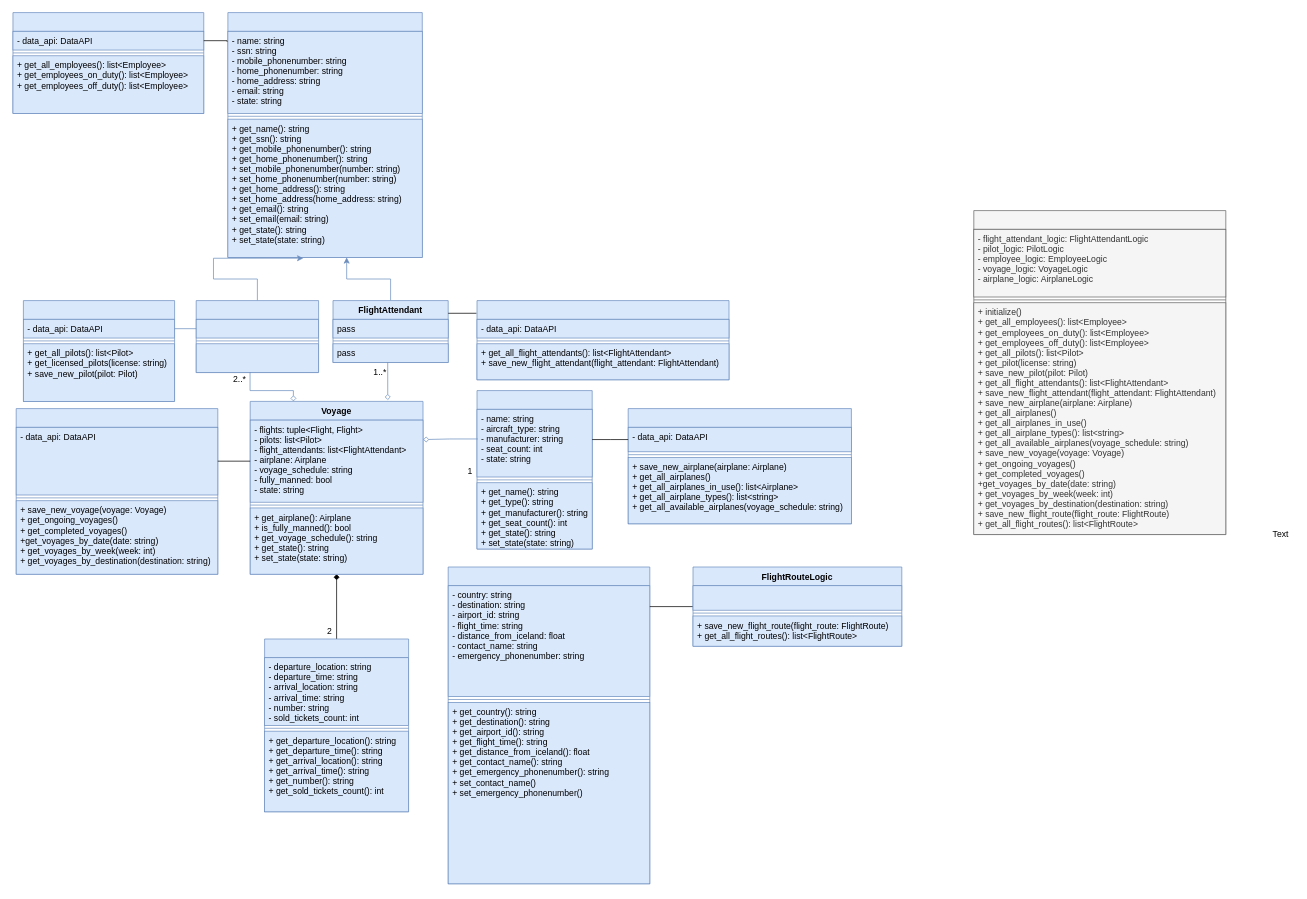
The diagram is 1307 pixels wide and 899 high, and some of its shapes have lost their labels. Each missing label, with the box of its shape:
+ get_license(): string + set_license(license: string): (195, 343, 319, 373)
- license: string: (195, 319, 319, 338)
Airplane: (476, 390, 592, 549)
AirplaneLogic: (627, 408, 851, 524)
data_api: DataAPI: (692, 585, 902, 610)
Employee: (227, 12, 422, 257)
EmployeeLogic: (12, 12, 204, 113)
Flight: (264, 638, 409, 812)
FlightAttendantLogic: (476, 300, 729, 380)
FlightRoute: (447, 566, 650, 884)
LogicAPI: (973, 210, 1226, 535)
Pilot: (195, 300, 319, 373)
PilotLogic: (23, 300, 175, 401)
VoyageLogic: (15, 408, 218, 574)
